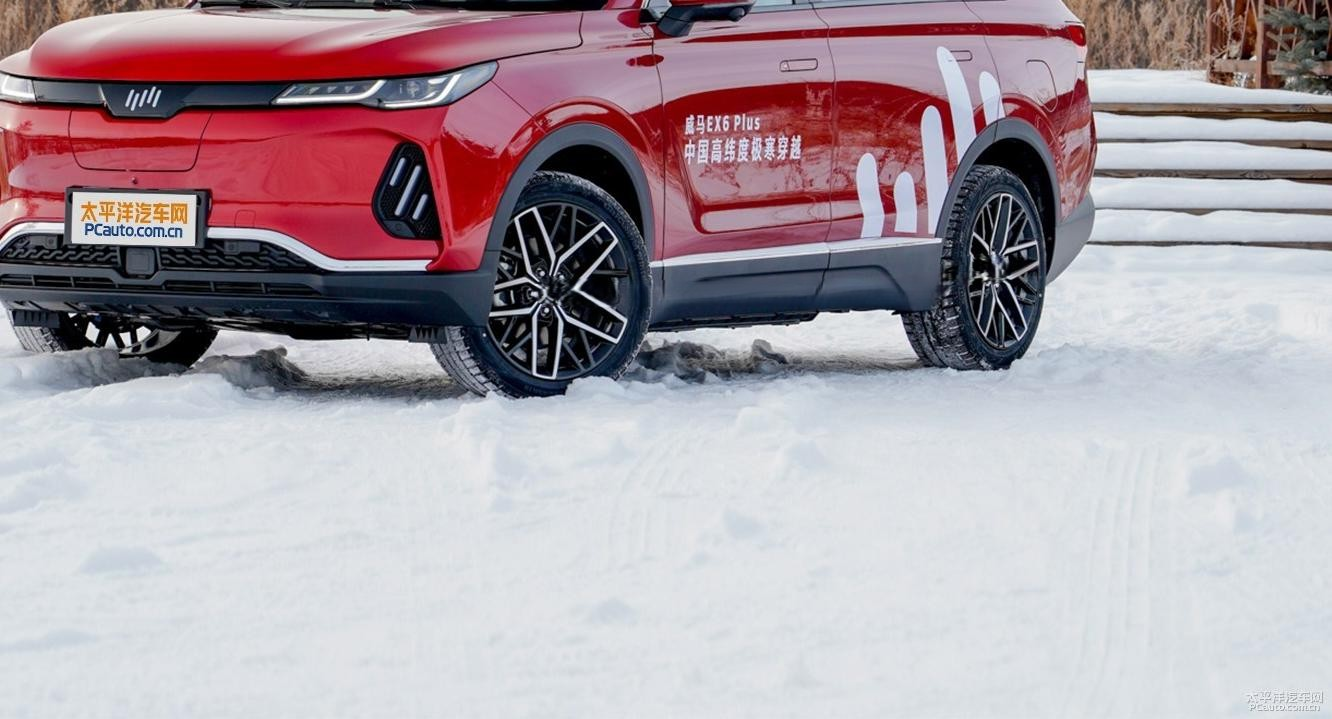WELTMEISTER: (126, 87, 161, 110)
